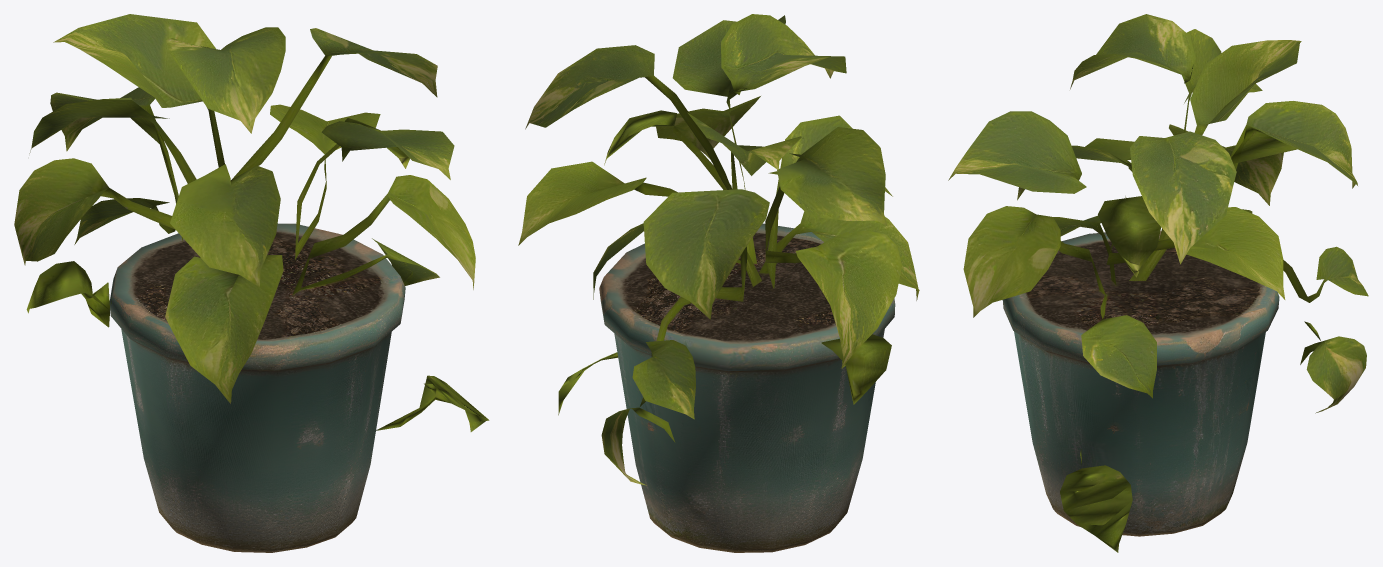
3 views of the same model, side by side, from view 1: azimuth 30°, elevation 25°; view 2: azimuth 150°, elevation 25°; view 3: azimuth 270°, elevation 25° (orthographic). The views are drawn at different scales.
Visible parts, largest first — view 1: tripo_node_320ba622-1e4b-42c7-bd52-bd55e315a722; view 2: tripo_node_320ba622-1e4b-42c7-bd52-bd55e315a722; view 3: tripo_node_320ba622-1e4b-42c7-bd52-bd55e315a722.
Boxes of the visible parts, x1,y1,x2,y2 form: tripo_node_320ba622-1e4b-42c7-bd52-bd55e315a722: (14,14,489,552); tripo_node_320ba622-1e4b-42c7-bd52-bd55e315a722: (518,14,919,552); tripo_node_320ba622-1e4b-42c7-bd52-bd55e315a722: (948,14,1368,552).
Bounding box in the file's own units: 0.8379 × 0.998 × 0.8457.
Materials: 1 (1 with a texture image).
